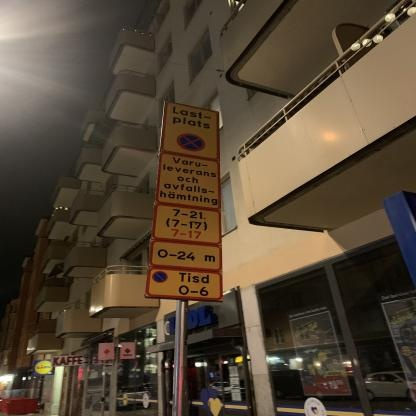lastplats: (159, 98, 223, 161)
